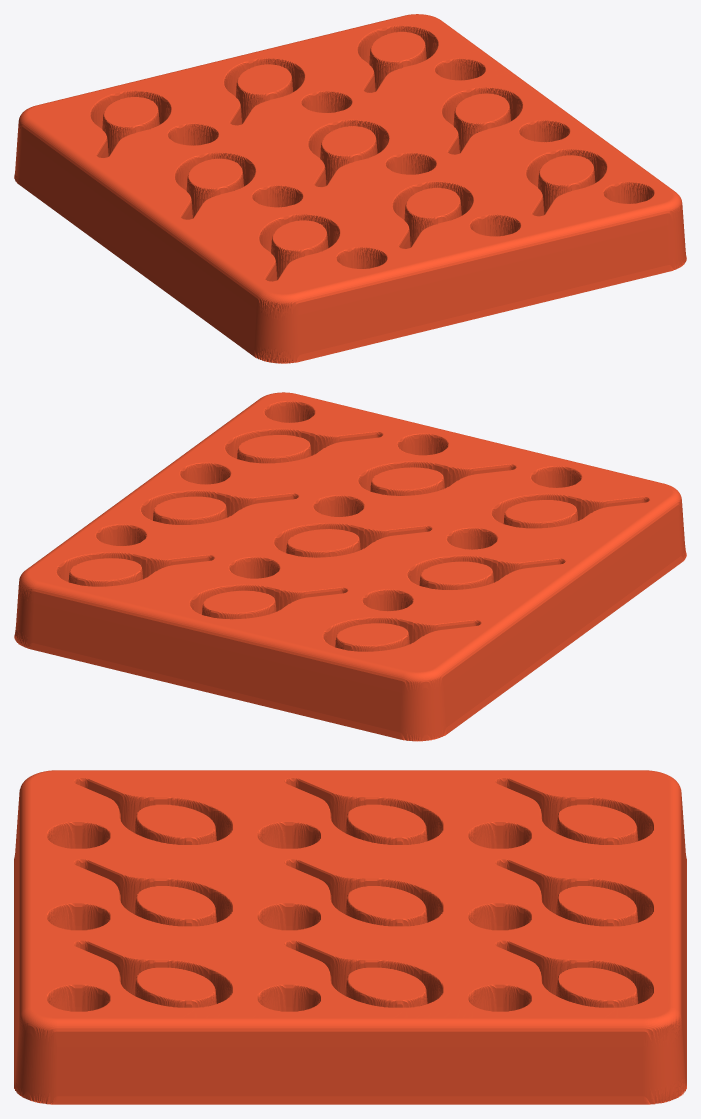
File: mold.glb
3 views of the same model, one above another, from view 1: azimuth 30°, elevation 25°; view 2: azimuth 150°, elevation 25°; view 3: azimuth 270°, elevation 25° (orthographic). The views are drawn at different scales.
Parts seen in each view (by area): view 1: geometry_0; view 2: geometry_0; view 3: geometry_0.
Boxes of the visible parts, box(x1,y1,x2,y2) form: geometry_0: box(14, 14, 686, 363); geometry_0: box(14, 392, 686, 741); geometry_0: box(14, 770, 686, 1104).
Size of the model in its own units: 0.1288 by 0.0182 by 0.1402.
